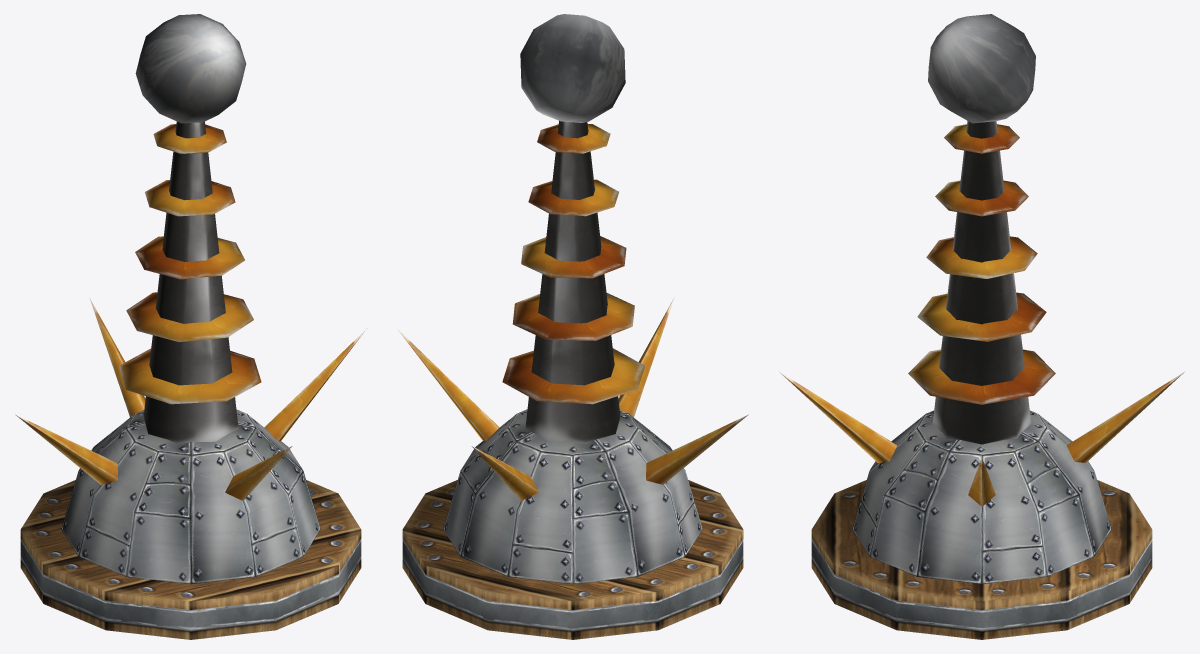
File: Tesla_L1.FBX
The picture shows the model from 3 angles, left to right: view 1: azimuth 30°, elevation 25°; view 2: azimuth 150°, elevation 25°; view 3: azimuth 270°, elevation 25°; orthographic projection.
Visible parts, largest first — view 1: Tesla_L1; view 2: Tesla_L1; view 3: Tesla_L1.
Part boxes in pixels (x1,y1,x2,y2): Tesla_L1: [15, 14, 366, 639]; Tesla_L1: [397, 14, 748, 639]; Tesla_L1: [779, 14, 1184, 639].
Size of the model in its own units: 2.24 by 2.24 by 3.33.
